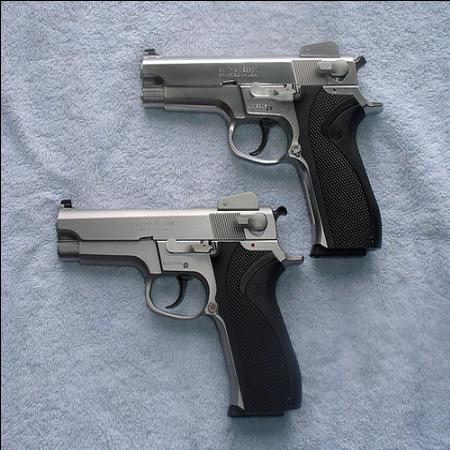Pistol: (135, 37, 387, 256), (53, 197, 306, 415)
